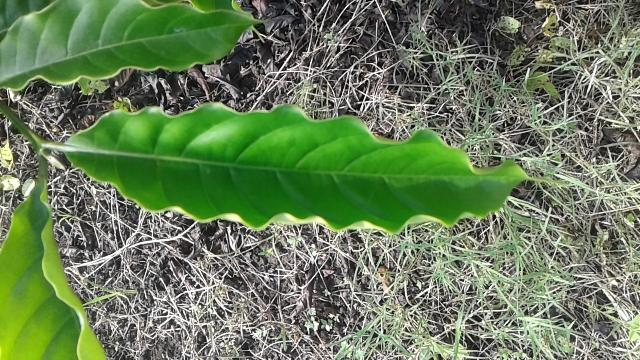healthy: (66, 106, 567, 229)
